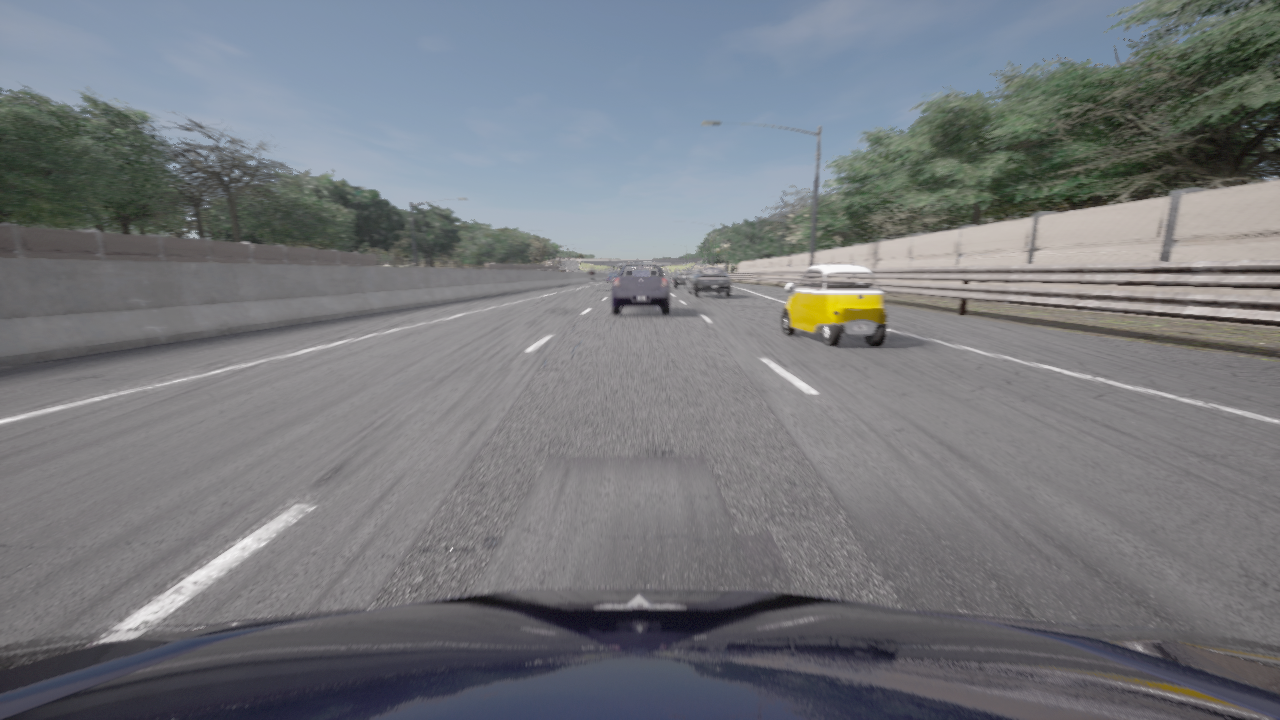cyclist: (0, 588, 1279, 719), (782, 264, 886, 346), (612, 263, 669, 314), (686, 267, 730, 297), (671, 270, 693, 288), (606, 272, 618, 283), (590, 279, 592, 289)
